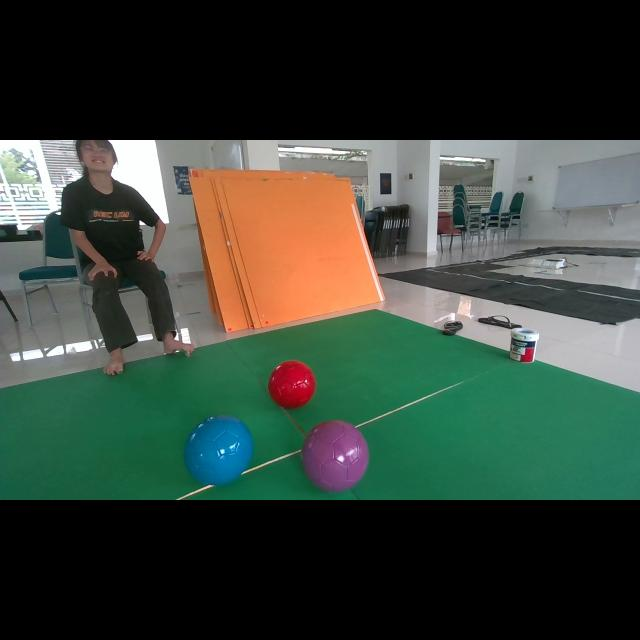B: (184, 415, 254, 485)
P: (301, 420, 369, 492)
R: (269, 360, 316, 409)
